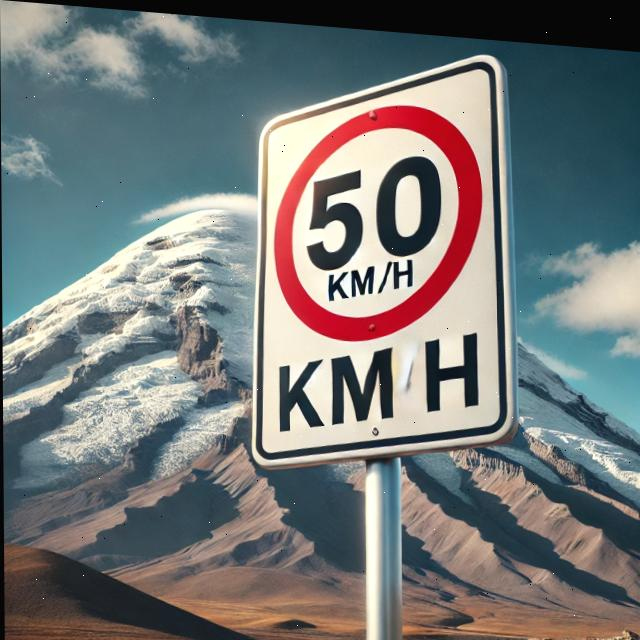Speed limit 50: (273, 89, 485, 344)
